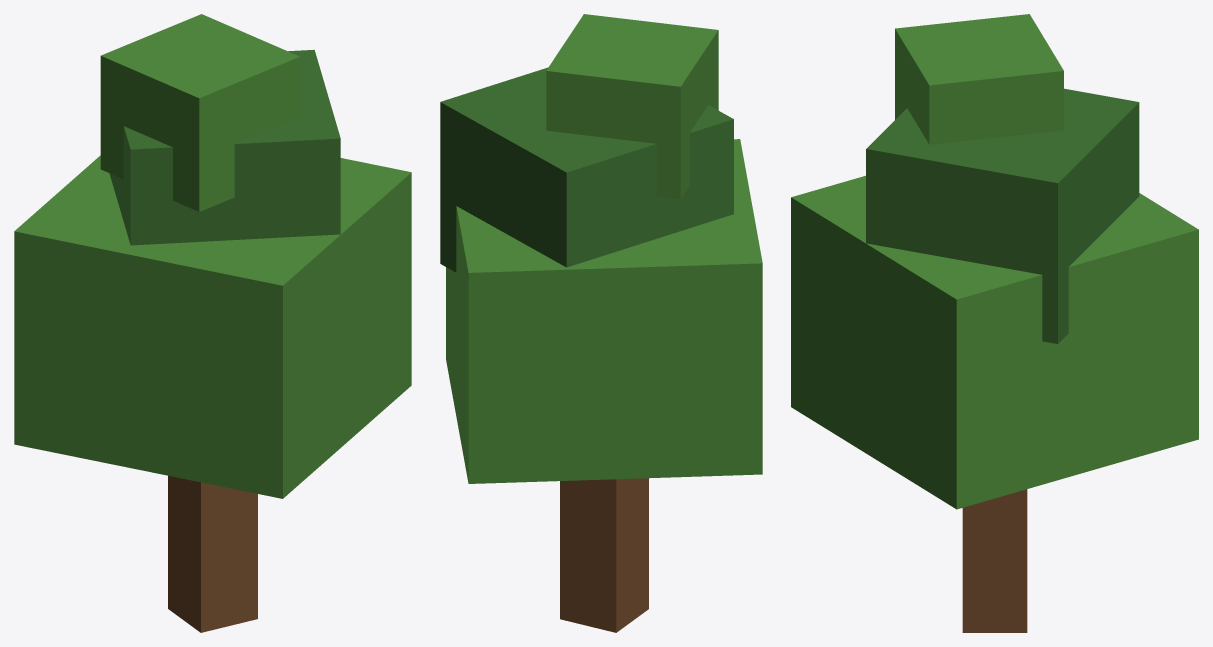
Rendered from tree.glb.
The picture shows the model from 3 angles, left to right: view 1: azimuth 30°, elevation 25°; view 2: azimuth 150°, elevation 25°; view 3: azimuth 270°, elevation 25°; orthographic projection.
Bounding box in the file's own units: 2.64 × 4 × 2.64.
